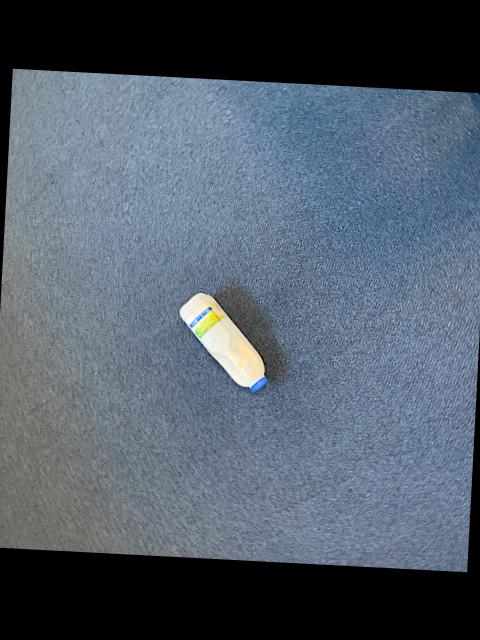plastic: (178, 291, 265, 389)
